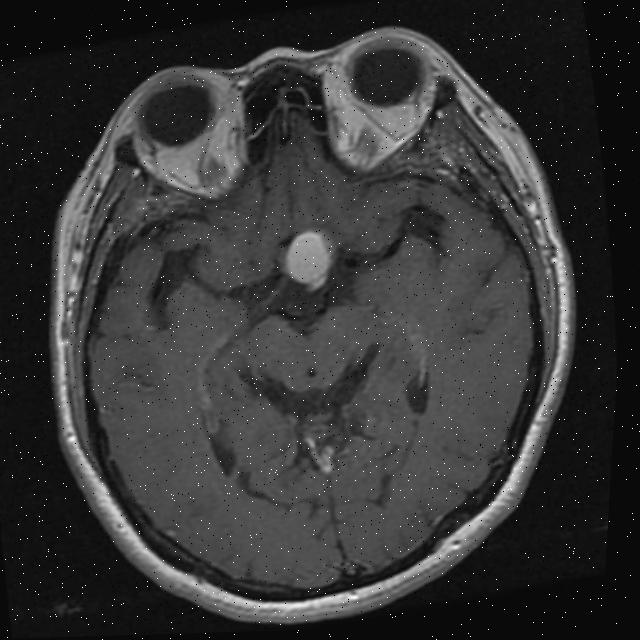Pituitary: (281, 227, 335, 295)
